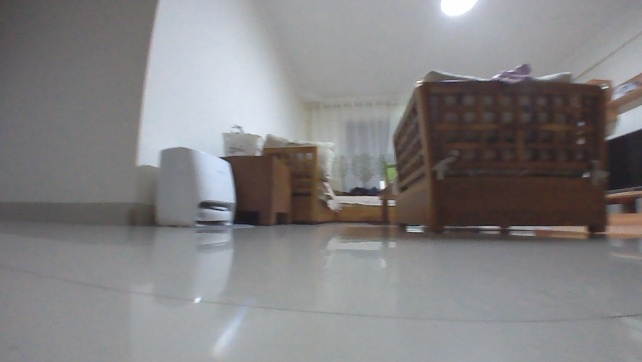sofa: (226, 132, 401, 224)
